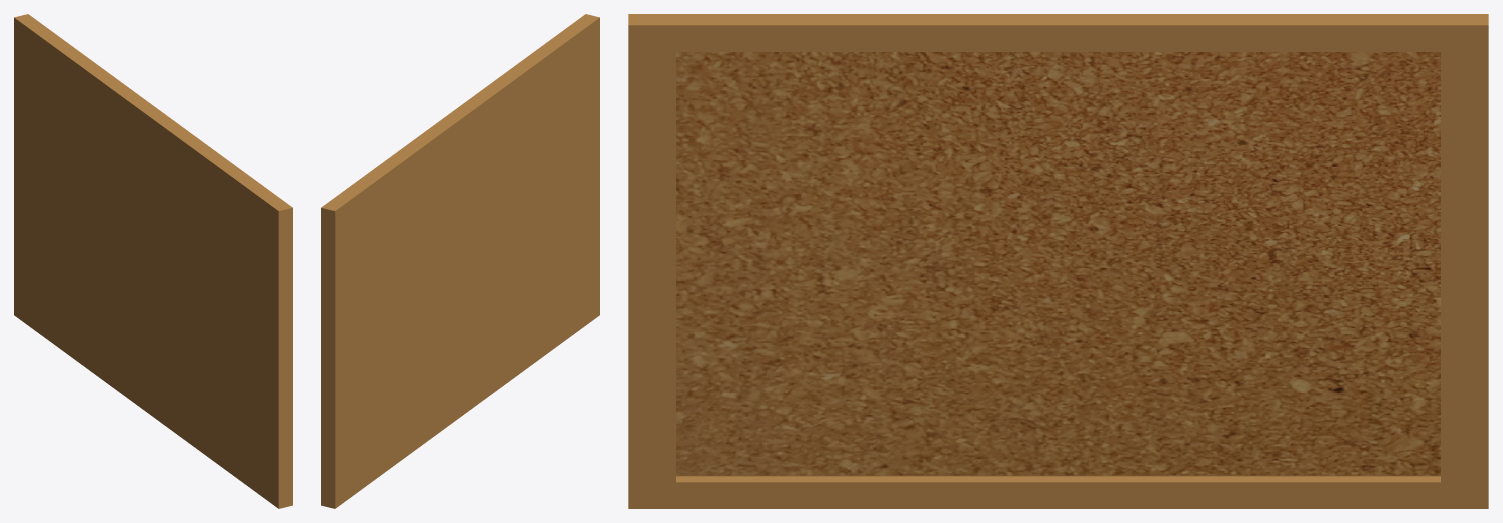
The model's file is pizarra-corcho.fbx.
3 renders of one model, left to right at view 1: azimuth 30°, elevation 25°; view 2: azimuth 150°, elevation 25°; view 3: azimuth 270°, elevation 25°, orthographic. The views are drawn at different scales.
Parts seen in each view (by area): view 1: tablero-corcho; view 2: tablero-corcho; view 3: tablero-corcho.
Boxes of the visible parts, bbox=[...] form: tablero-corcho: bbox=[14, 14, 292, 508]; tablero-corcho: bbox=[321, 14, 599, 508]; tablero-corcho: bbox=[628, 14, 1488, 508].
Bounding box in the file's own units: 18.1 × 363 × 584.
Materials: 1 (1 with a texture image).
